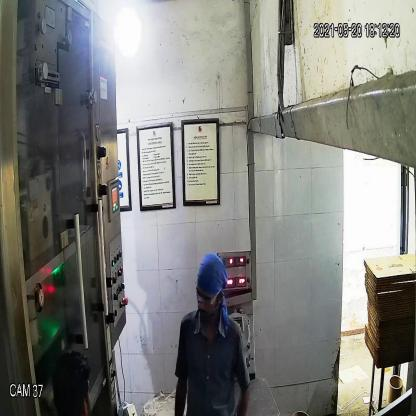goggles: (193, 287, 222, 308)
